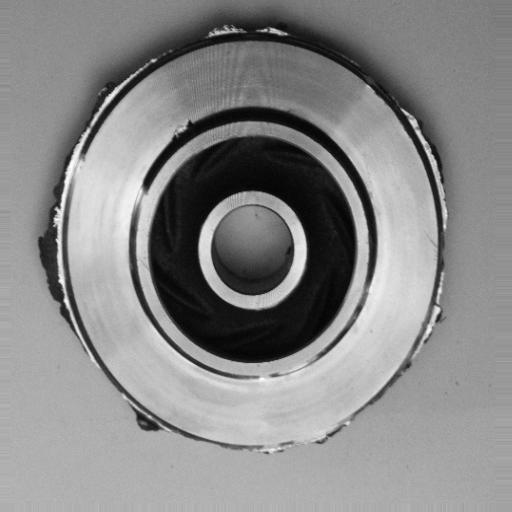casting_with_burr: (38, 20, 452, 459)
crack: (163, 115, 203, 145)
scratch: (243, 352, 332, 387)
